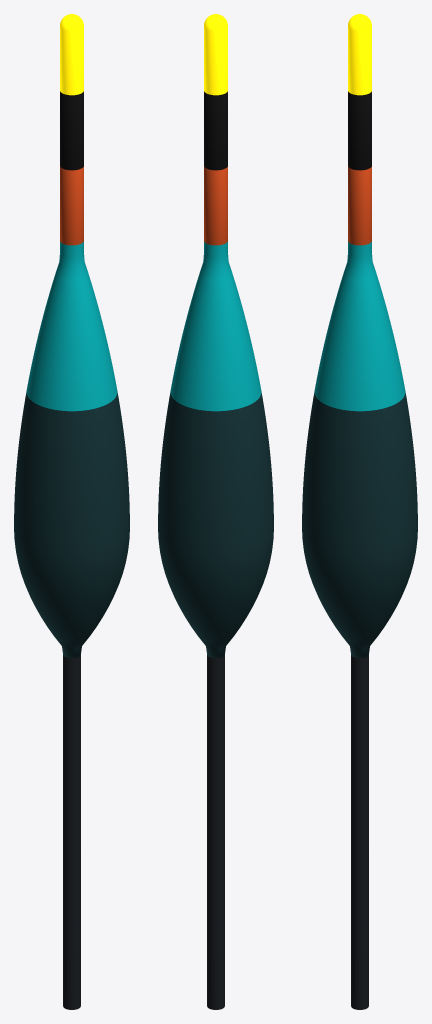
File: signal-13.glb
The picture shows the model from 3 angles, left to right: view 1: azimuth 30°, elevation 25°; view 2: azimuth 150°, elevation 25°; view 3: azimuth 330°, elevation 25°; orthographic projection.
Visible parts, largest first — view 1: signal-13; view 2: signal-13; view 3: signal-13.
Part boxes in pixels (bbox=[...]): signal-13: bbox=[14, 14, 129, 1009]; signal-13: bbox=[158, 14, 273, 1009]; signal-13: bbox=[302, 14, 417, 1009].
Size of the model in its own units: 0.021 by 0.198 by 0.021.
